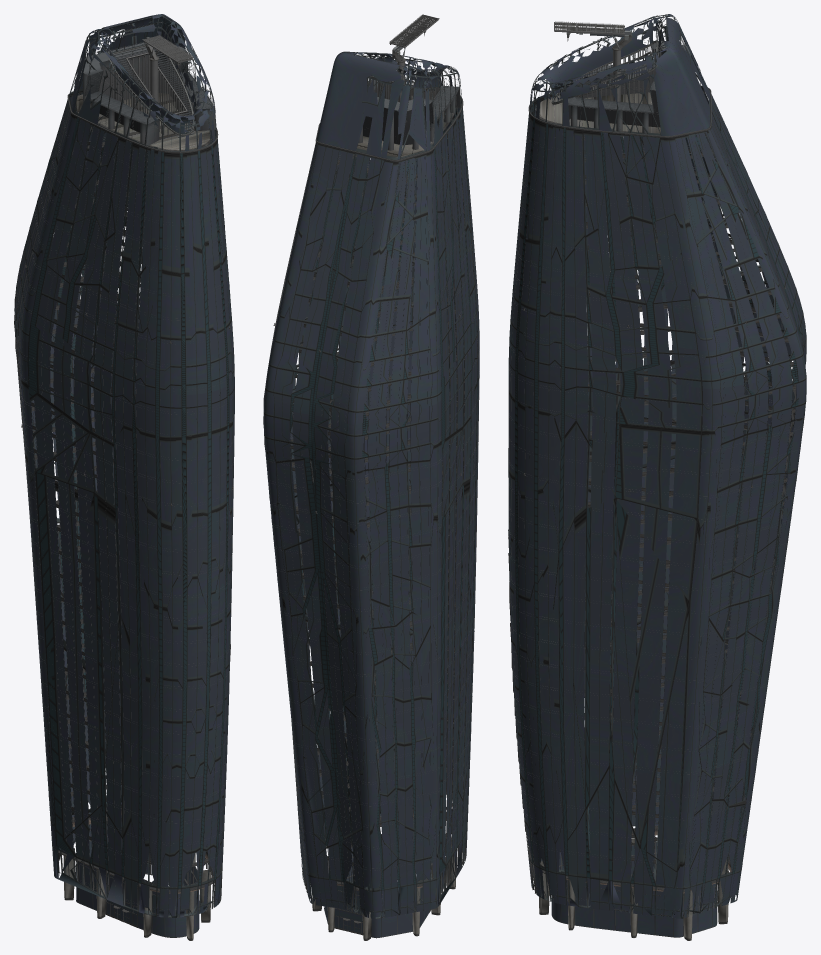
File: curved_glass_tower.glb
3 renders of one model, left to right at view 1: azimuth 30°, elevation 25°; view 2: azimuth 150°, elevation 25°; view 3: azimuth 270°, elevation 25°, orthographic. The views are drawn at different scales.
Visible parts, largest first — view 1: bld; view 2: bld; view 3: bld.
Part boxes in pixels (bbox=[...]): bld: bbox=[14, 14, 234, 940]; bld: bbox=[263, 14, 479, 940]; bld: bbox=[508, 14, 806, 940].
Size of the model in its own units: 34.52 by 170 by 51.72.
6 materials, 6 textured.
